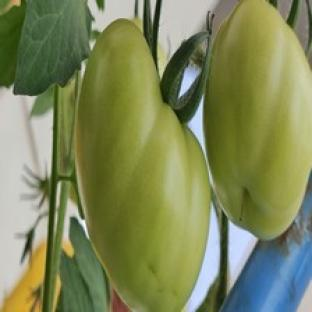Tomato: (77, 20, 210, 311), (0, 241, 47, 311)
